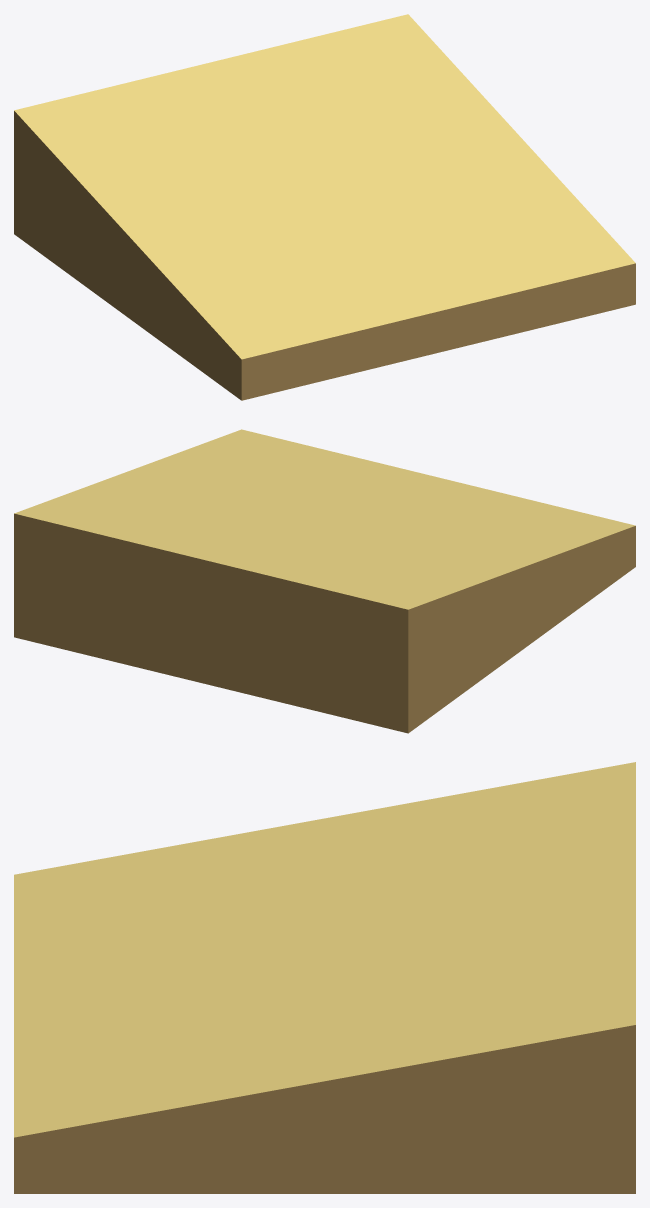
Rendered from Terrain_Modular_Tiles_Sand_Dirt_Ramp_Large_01.fbx.
3 views of the same model, one above another, from view 1: azimuth 30°, elevation 25°; view 2: azimuth 150°, elevation 25°; view 3: azimuth 270°, elevation 25° (orthographic). The views are drawn at different scales.
Parts seen in each view (by area): view 1: Terrain_Modular_Tiles_Sand_Dirt_Ramp_Large_01; view 2: Terrain_Modular_Tiles_Sand_Dirt_Ramp_Large_01; view 3: Terrain_Modular_Tiles_Sand_Dirt_Ramp_Large_01.
Boxes of the visible parts, x1,y1,x2,y2 form: Terrain_Modular_Tiles_Sand_Dirt_Ramp_Large_01: (14,14,635,400); Terrain_Modular_Tiles_Sand_Dirt_Ramp_Large_01: (14,429,635,733); Terrain_Modular_Tiles_Sand_Dirt_Ramp_Large_01: (14,762,635,1193).
Size of the model in its own units: 118 by 35.43 by 118.
